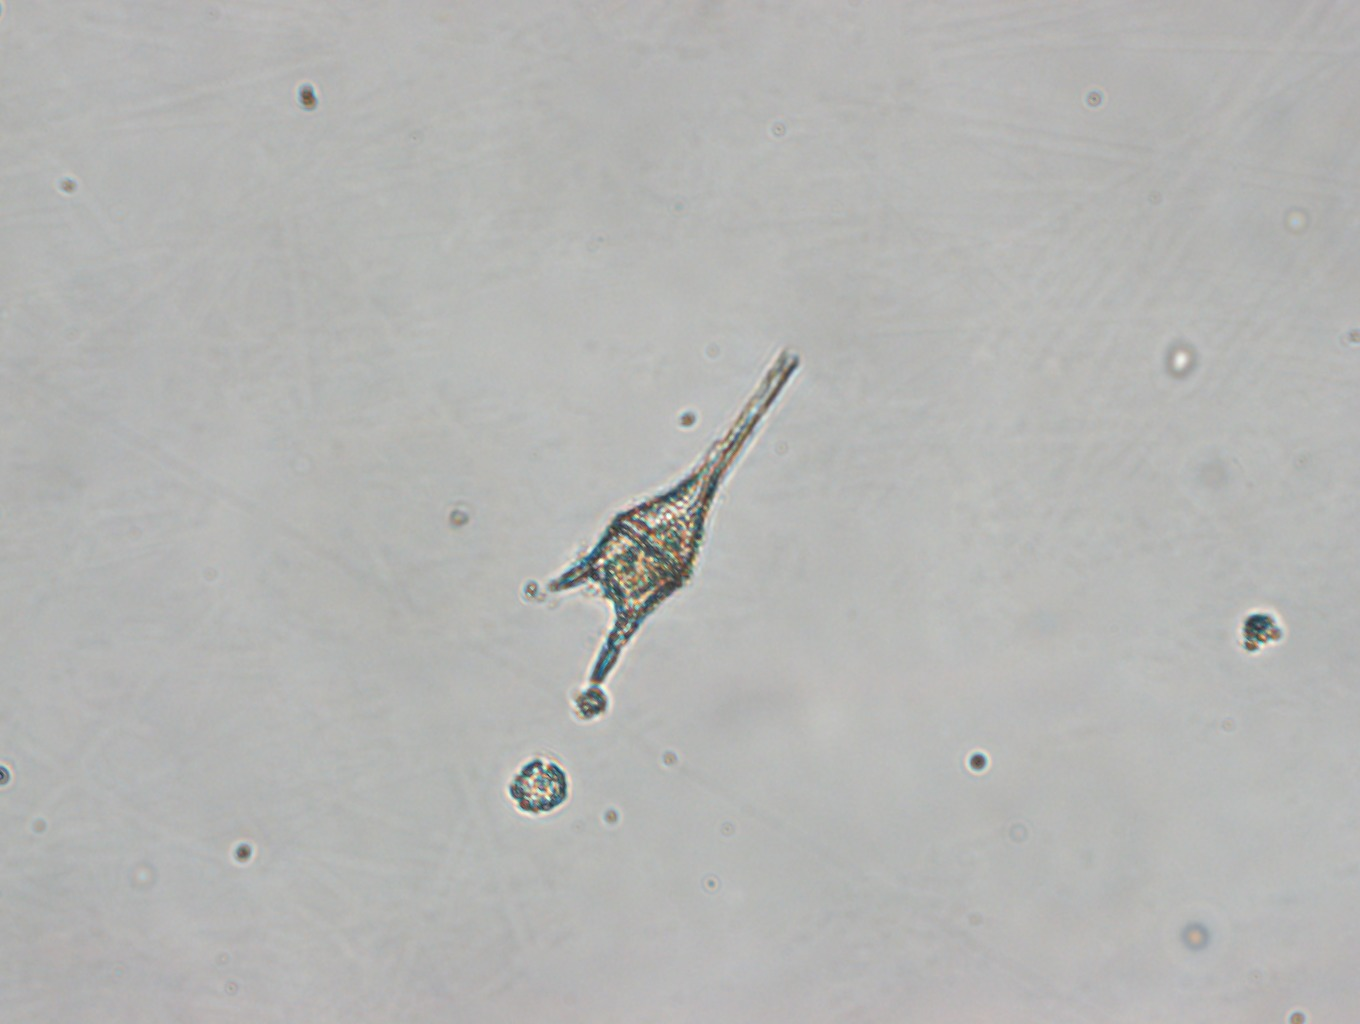ceratium furca: (544, 342, 805, 685)
